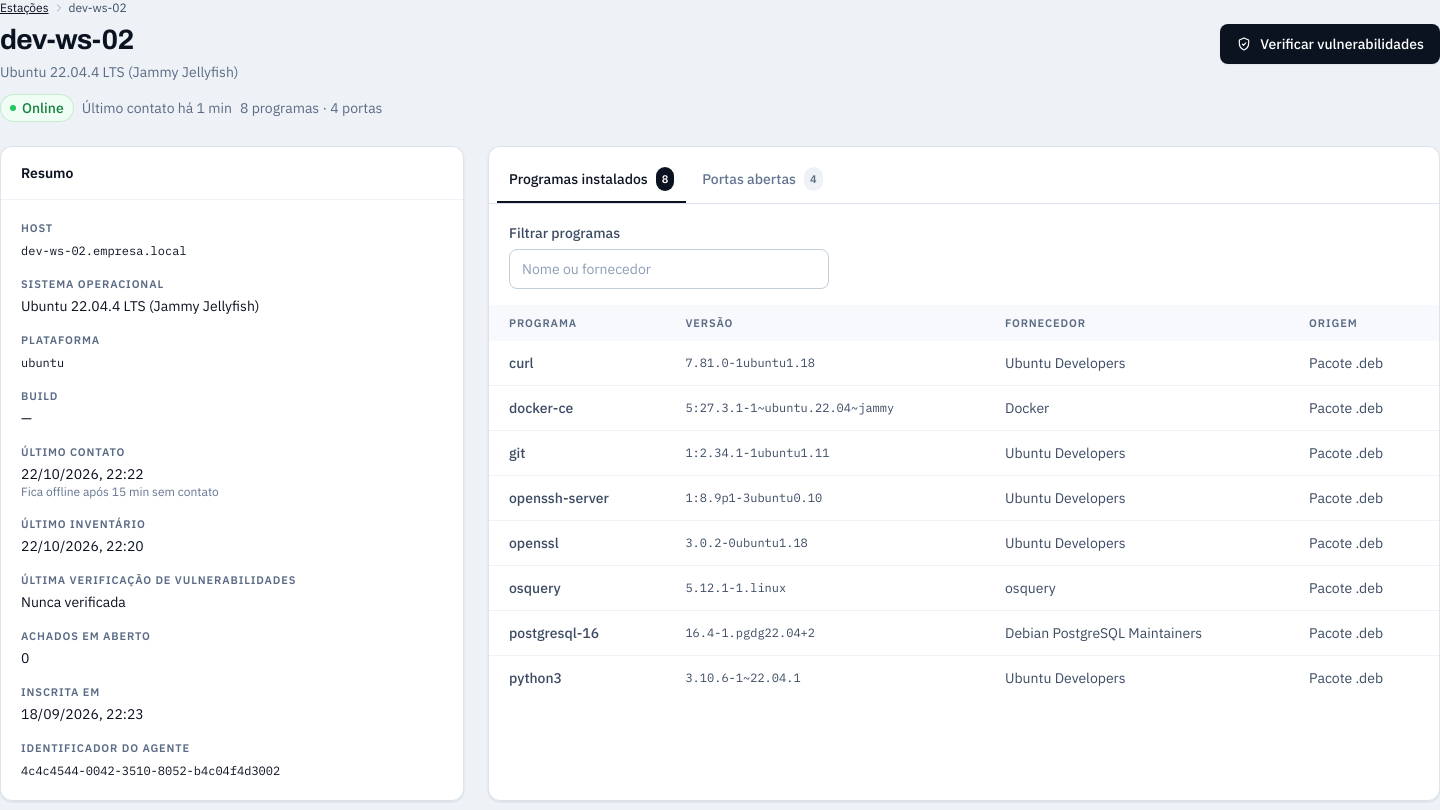
Scenario: B14 — verificar vulnerabilidades no detalhe da estação › erro da API vira o banner de erro, sem resultado
The width and height of the screenshot is (1440, 810).
Expected: the heading "dev-ws-02" is shown, top-left (0, 24), bottom-right (133, 55)
Step 1. Click the button "Verificar vulnerabilidades" → (1330, 44), box top-left (1220, 24), bottom-right (1439, 64)
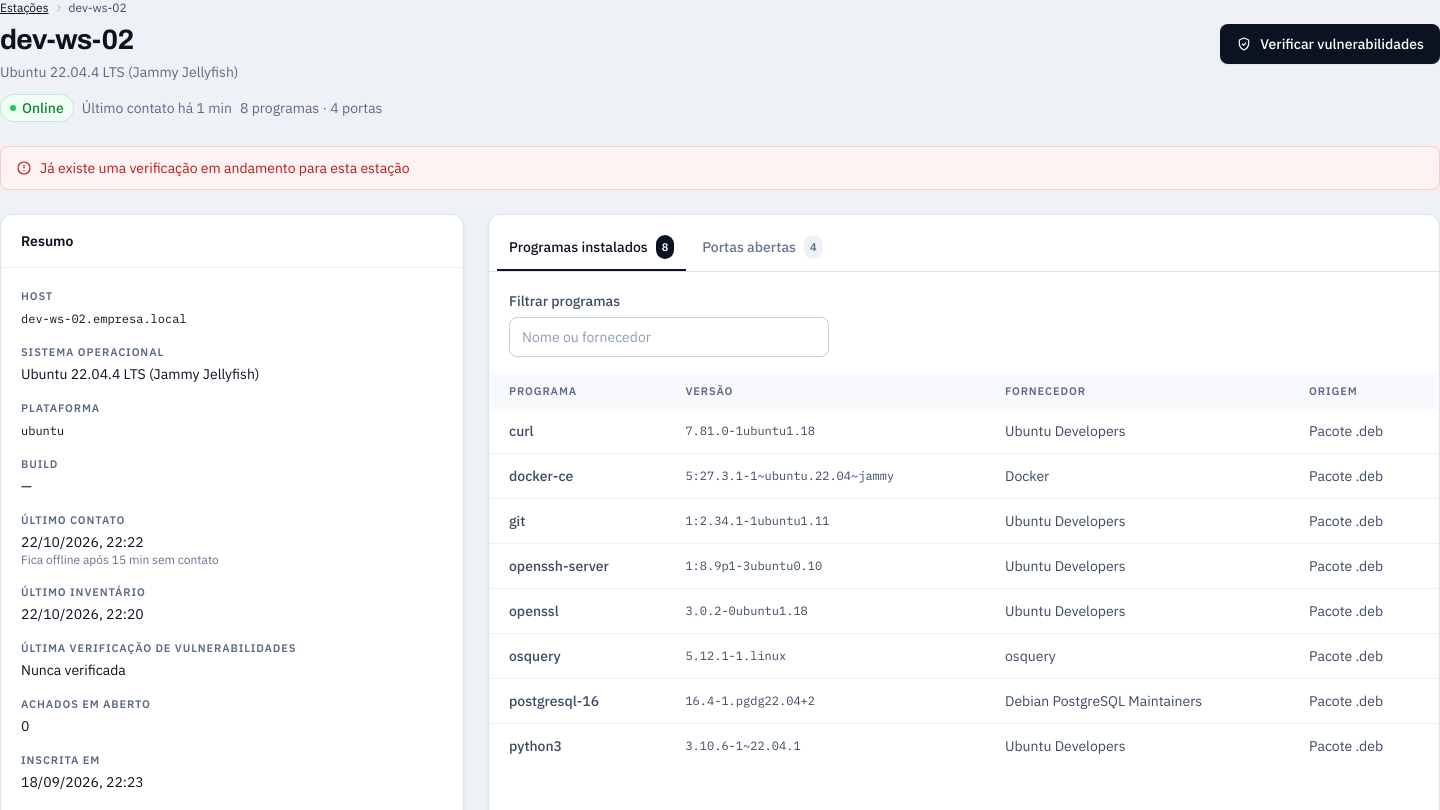
Now the message shows "Já existe uma verificação em andamento", box top-left (40, 159), bottom-right (410, 177)
